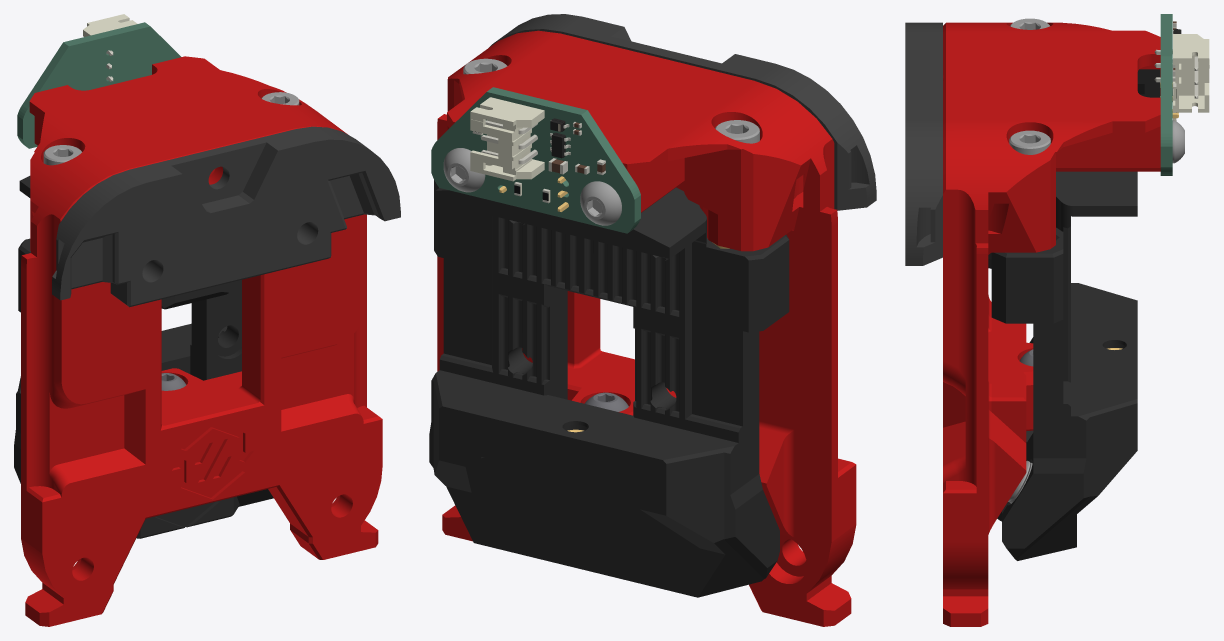
3 renders of one model, left to right at view 1: azimuth 30°, elevation 25°; view 2: azimuth 150°, elevation 25°; view 3: azimuth 270°, elevation 25°, orthographic. The views are drawn at different scales.
Parts seen in each view (by area): view 1: Backplate, Spacer, Shuttle MGN12, OptoTap PCB014, OptoTap PCB007, Top Pins With Screws002; view 2: Shuttle MGN12, Backplate, OptoTap PCB014, Spacer, OptoTap PCB007, M3x6 BHCS Screws001, M3x6 BHCS Screws, Top Pins With Screws002; view 3: Backplate, Shuttle MGN12, Spacer, OptoTap PCB007, OptoTap PCB014, Top Pins With Screws003, OptoTap PCB002, M3x6 BHCS Screws.
Boxes of the visible parts, bbox=[...] form: Backplate: bbox=[21, 56, 382, 626]; Spacer: bbox=[52, 126, 400, 307]; Shuttle MGN12: bbox=[14, 176, 273, 538]; OptoTap PCB014: bbox=[17, 22, 181, 148]; OptoTap PCB007: bbox=[83, 14, 137, 81]; Top Pins With Screws002: bbox=[43, 145, 81, 165]; Shuttle MGN12: bbox=[429, 180, 789, 597]; Backplate: bbox=[437, 30, 856, 626]; OptoTap PCB014: bbox=[431, 87, 640, 233]; Spacer: bbox=[489, 14, 876, 210]; OptoTap PCB007: bbox=[470, 97, 544, 181]; M3x6 BHCS Screws001: bbox=[580, 181, 621, 225]; M3x6 BHCS Screws: bbox=[443, 148, 485, 192]; Top Pins With Screws002: bbox=[715, 120, 759, 143]; Backplate: bbox=[943, 22, 1160, 626]; Shuttle MGN12: bbox=[988, 171, 1137, 560]; Spacer: bbox=[905, 22, 942, 265]; OptoTap PCB007: bbox=[1154, 34, 1209, 112]; OptoTap PCB014: bbox=[1160, 14, 1172, 175]; Top Pins With Screws003: bbox=[1009, 130, 1050, 154]; OptoTap PCB002: bbox=[1137, 69, 1160, 97]; M3x6 BHCS Screws: bbox=[1172, 120, 1184, 163].
Bounding box in the file's own units: 0.055 × 0.0734 × 0.0402.
